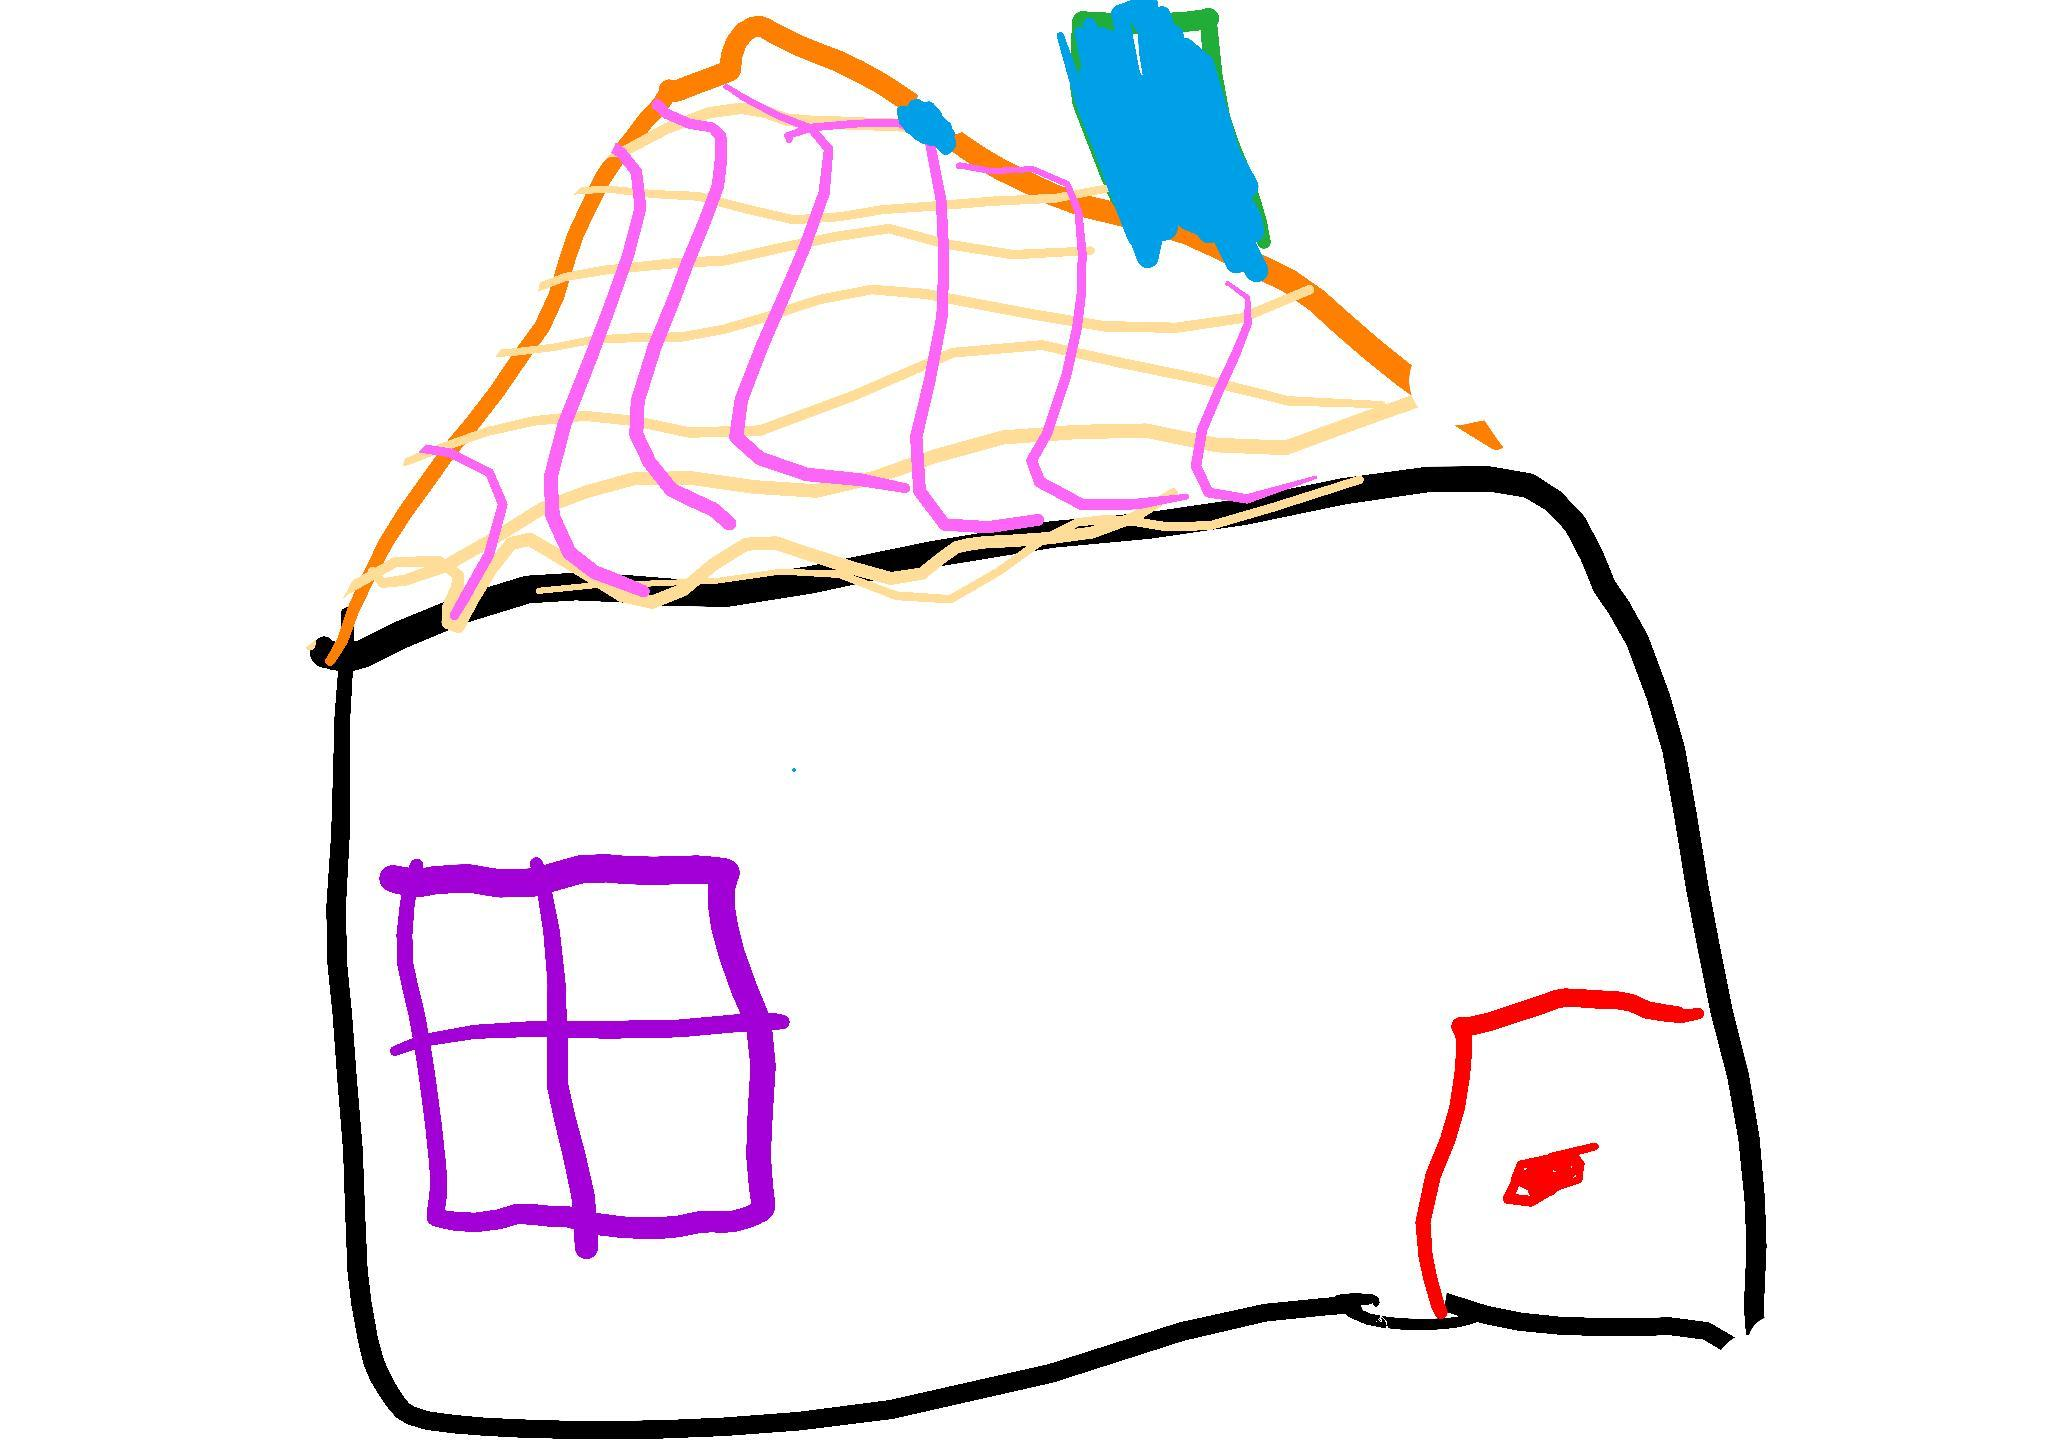chimney: (1058, 0, 1272, 279)
door: (1421, 990, 1747, 1335)
house: (314, 2, 1769, 1441)
roof: (351, 22, 1501, 630)
wall: (328, 492, 1766, 1440)
window: (379, 855, 789, 1261)
